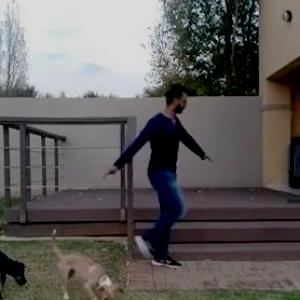land: (84, 81, 211, 264)
